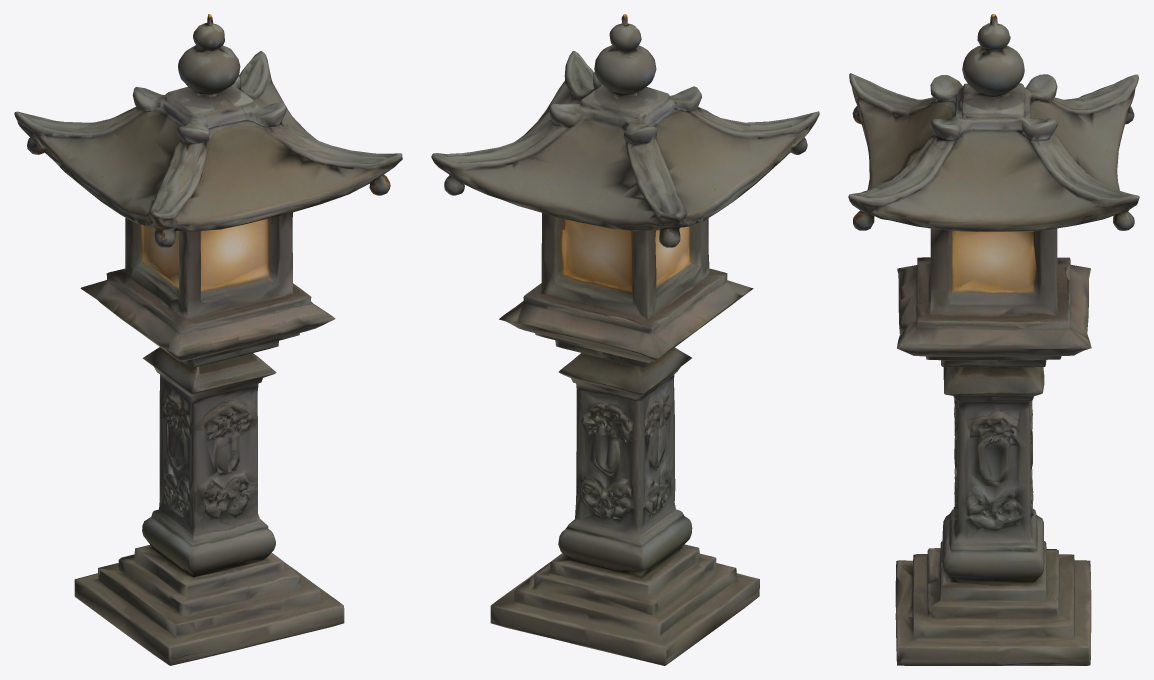
File: garden-lamp.glb
3 views of the same model, side by side, from view 1: azimuth 30°, elevation 25°; view 2: azimuth 150°, elevation 25°; view 3: azimuth 270°, elevation 25° (orthographic). The views are drawn at different scales.
Bounding box in the file's own units: 0.8729 × 1.99 × 0.8655.
Materials: 1 (1 with a texture image).
